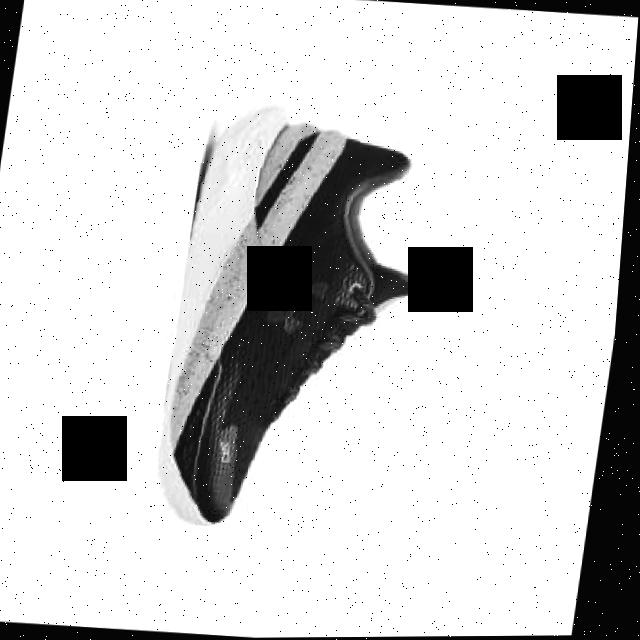shoe: (156, 93, 451, 539)
